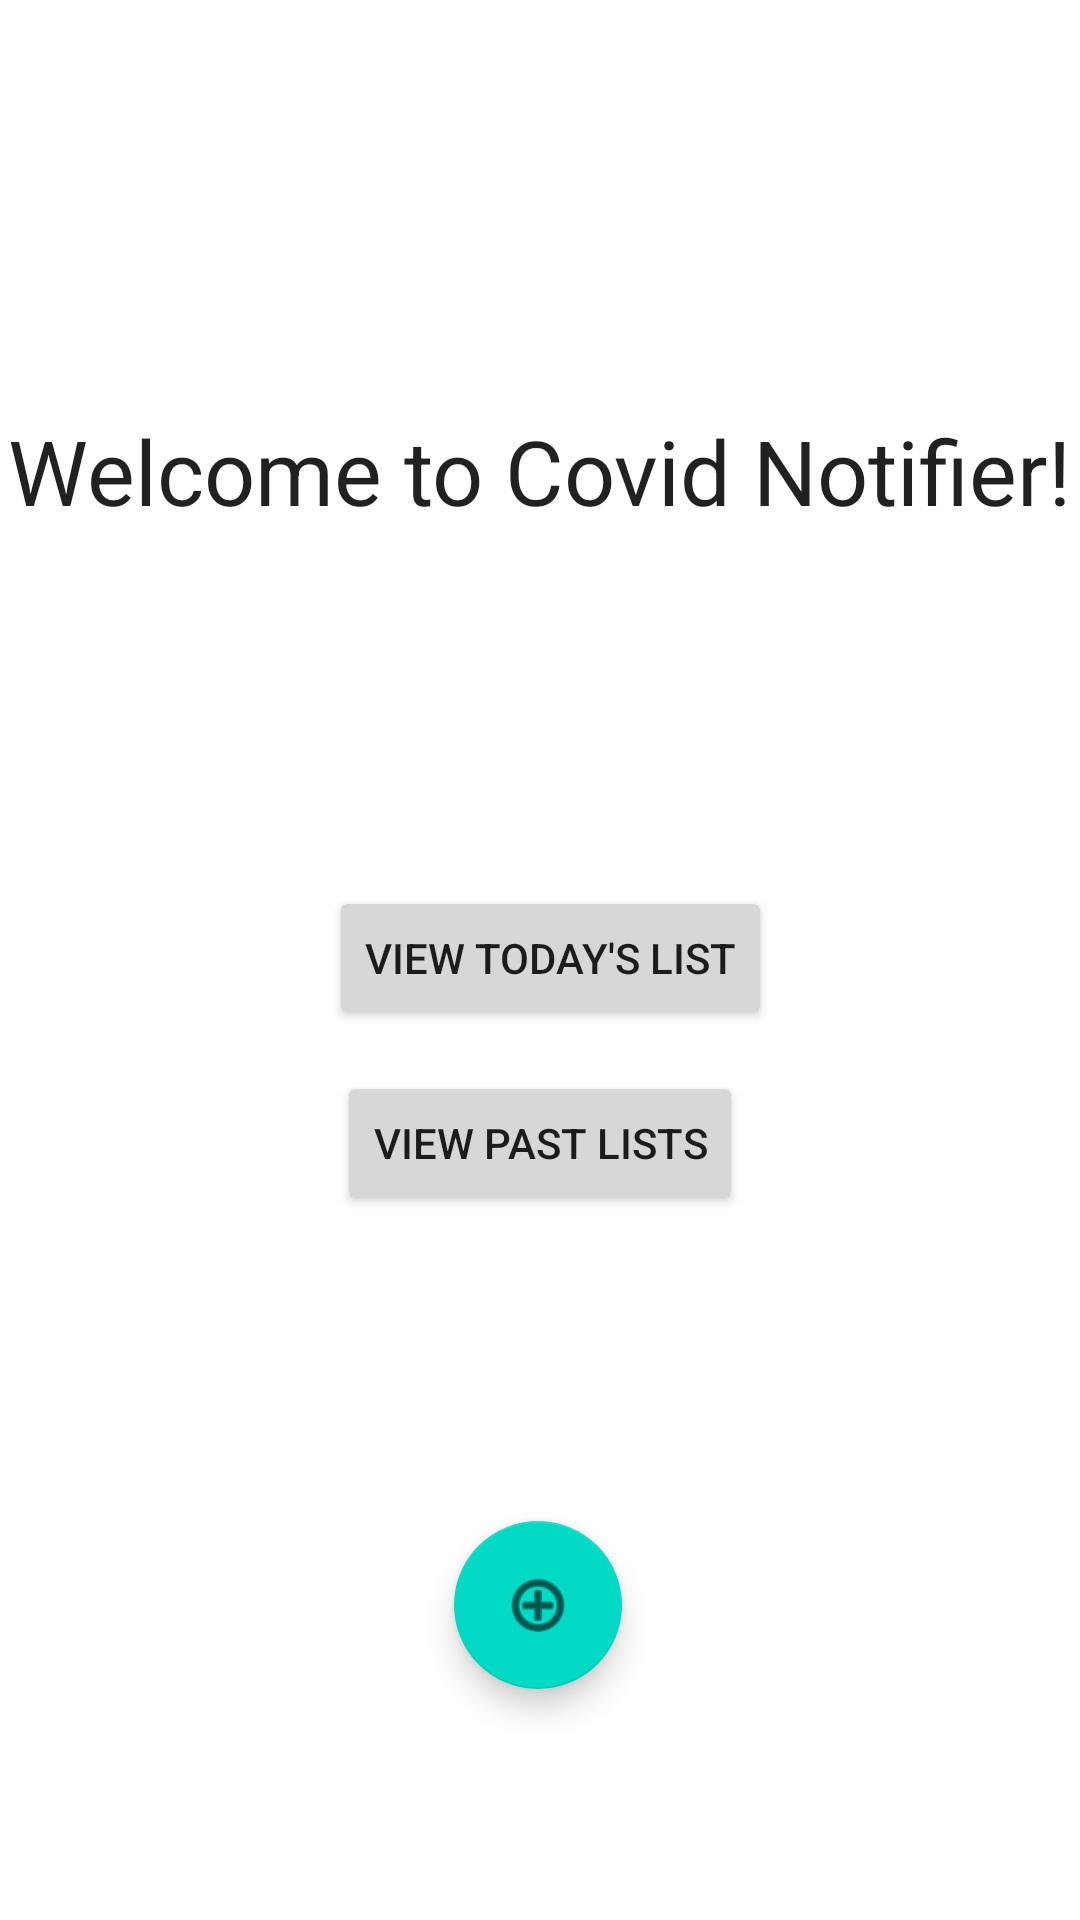

Where to tap for icons on this 1080px x 1920px app screen, as [x,y]:
add: [538,1605]
